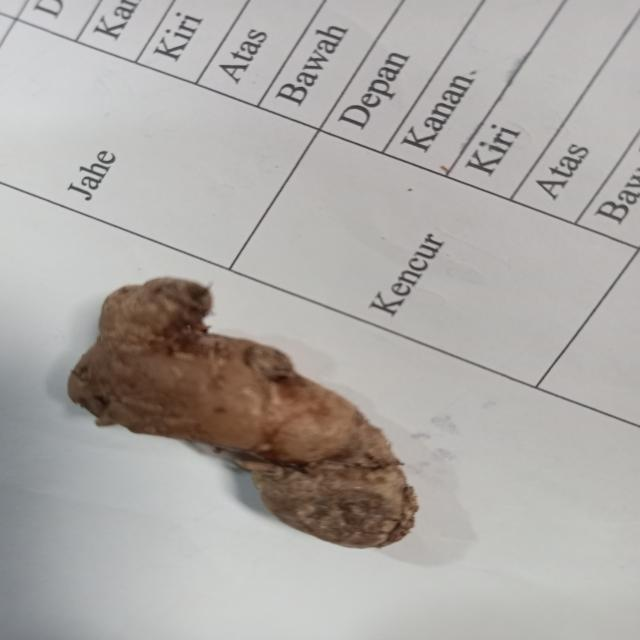ginger: (79, 276, 414, 536)
